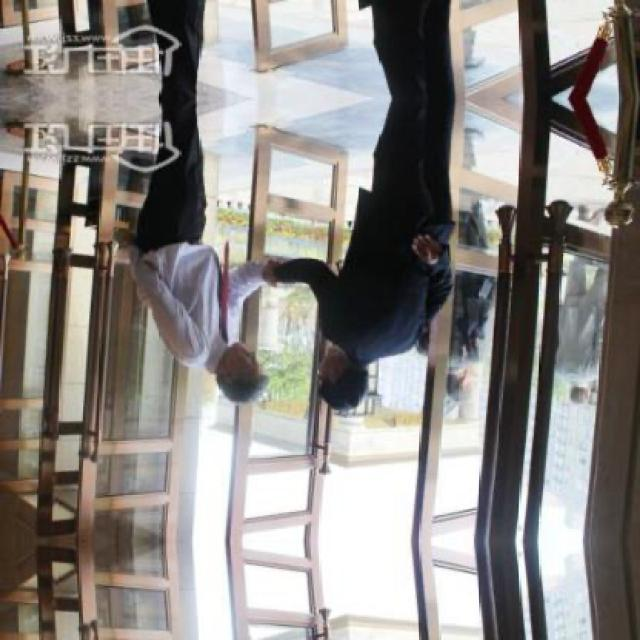sin casco: (182, 328, 282, 419), (341, 328, 410, 424)
